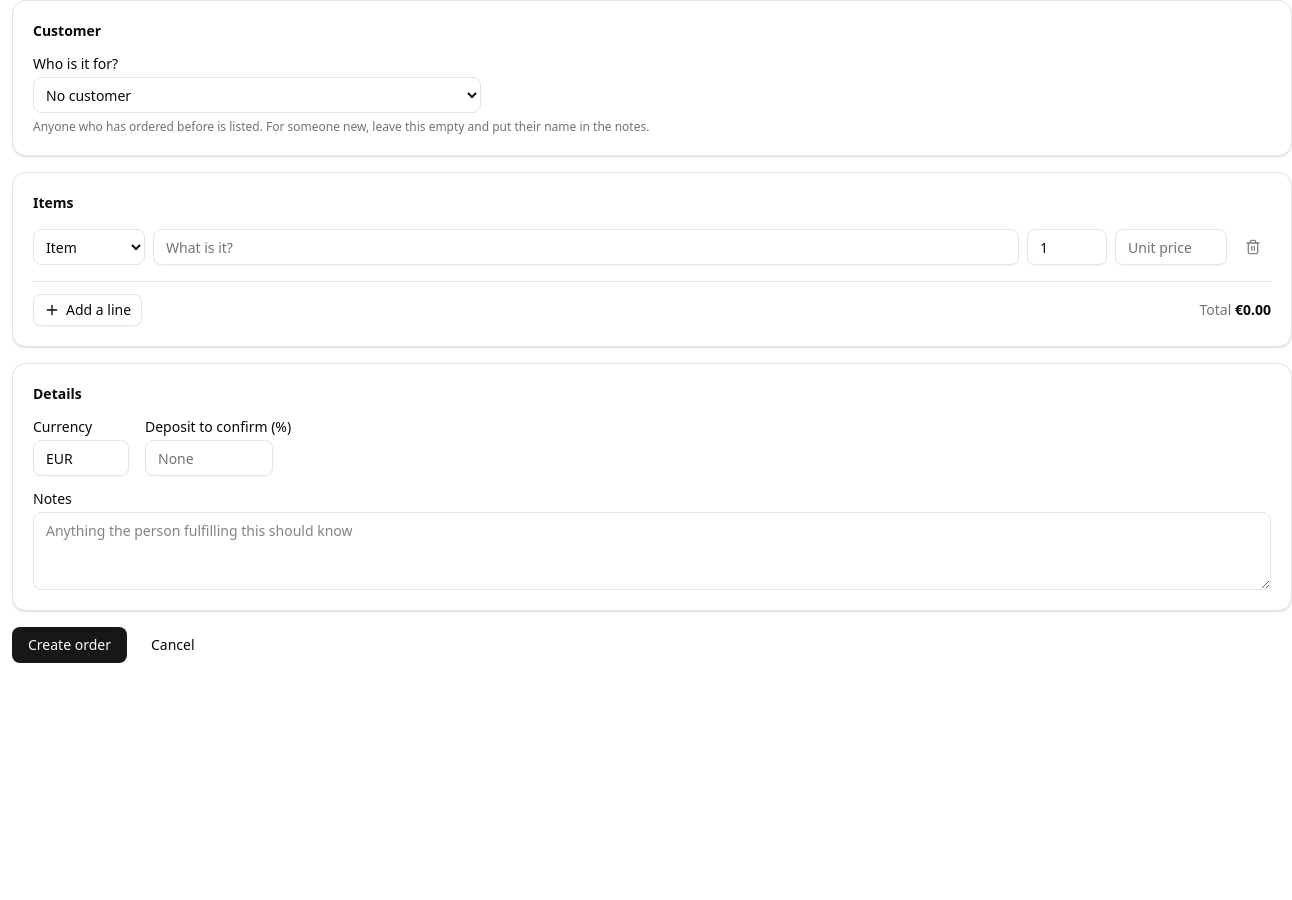
Test: OrderEditor › does not submit an unfinished order, and says which line is wrong
This screenshot has width=1292, height=900.
Step 1. Click the button "Create order" → x=70, y=645, box [12,627,127,663]
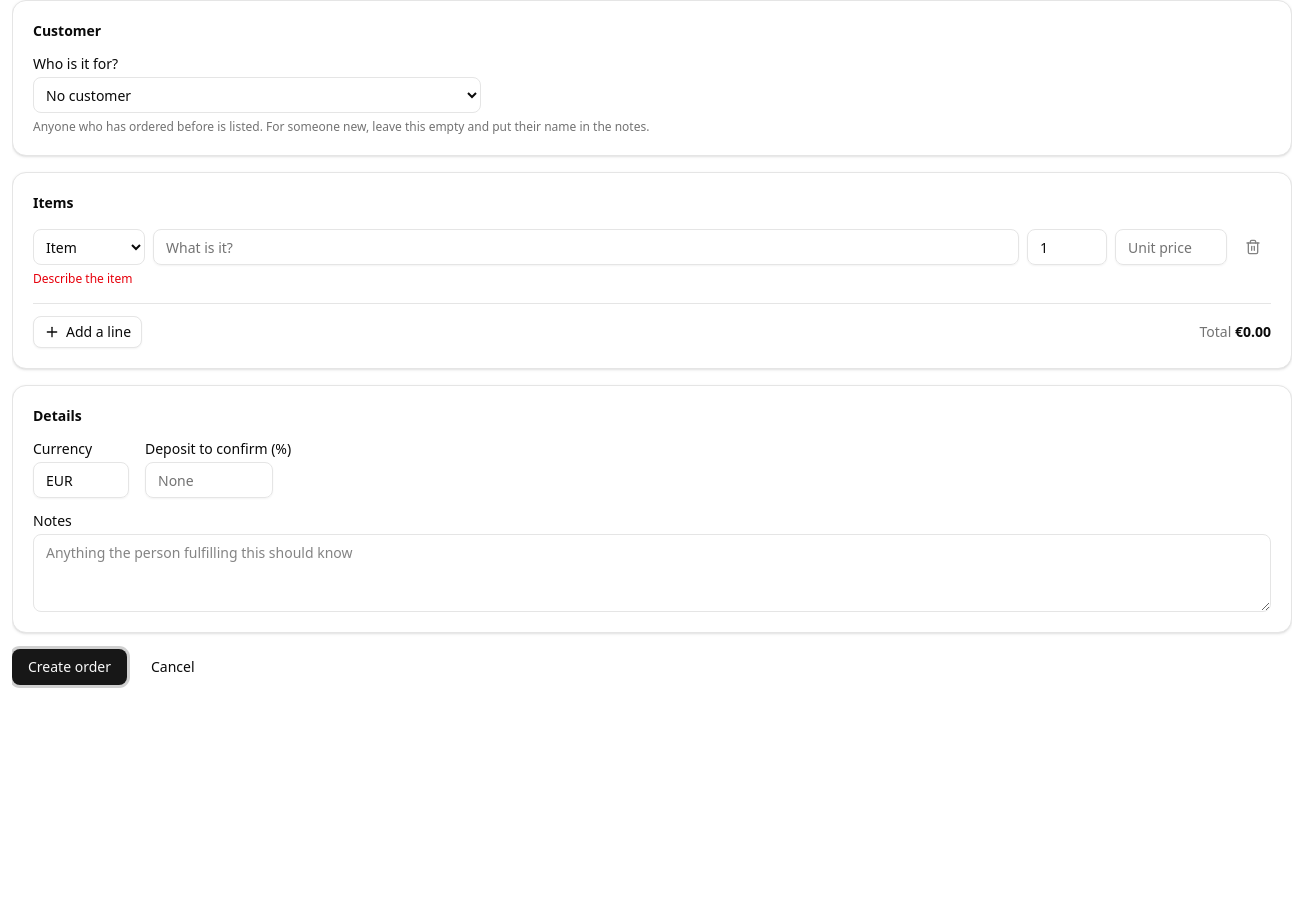
Expected: the text "Describe the item" is shown, [33,270,132,287]
